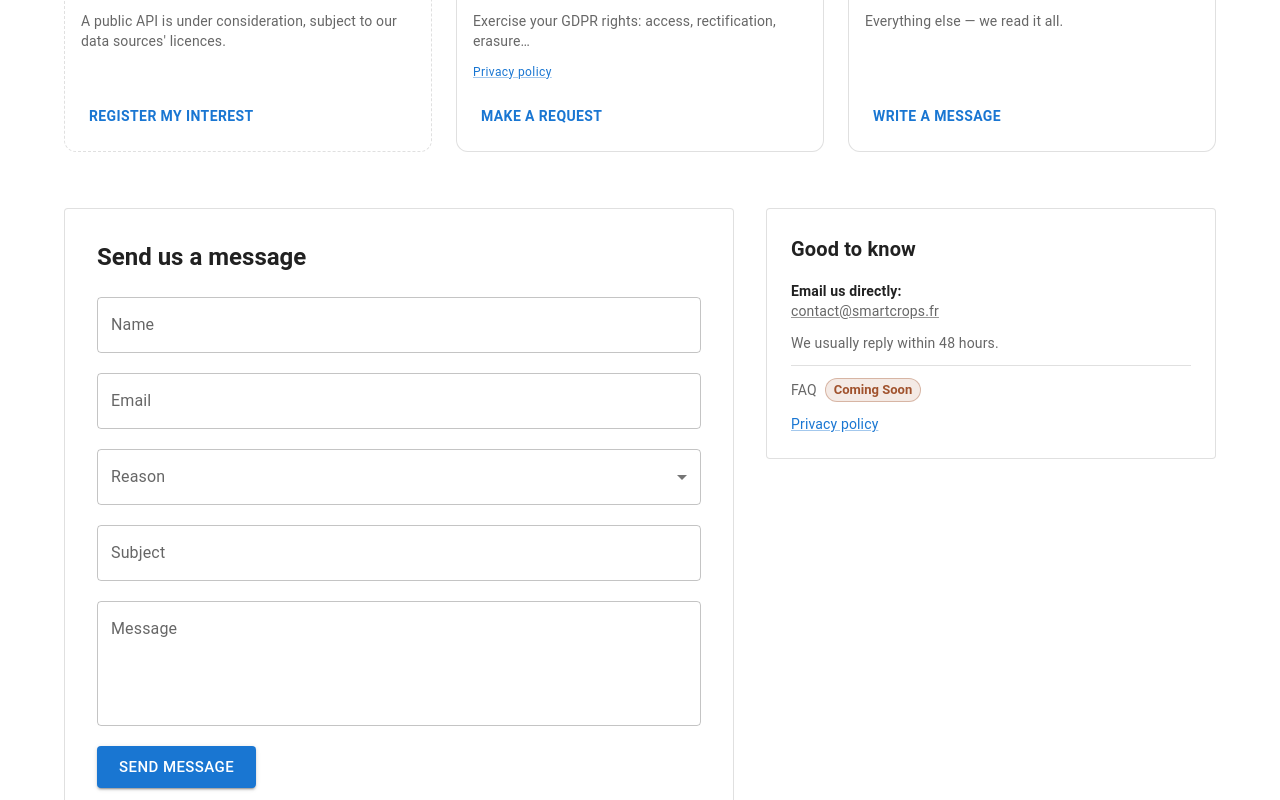
Scenario: Contact (SMA-36) › distinguishes a malformed email as "invalid" (E5)
The width and height of the screenshot is (1280, 800).
(page scrolled)
Type "not-an-email" into the field labelled "Email" at (399, 401), box [97,373,701,429]
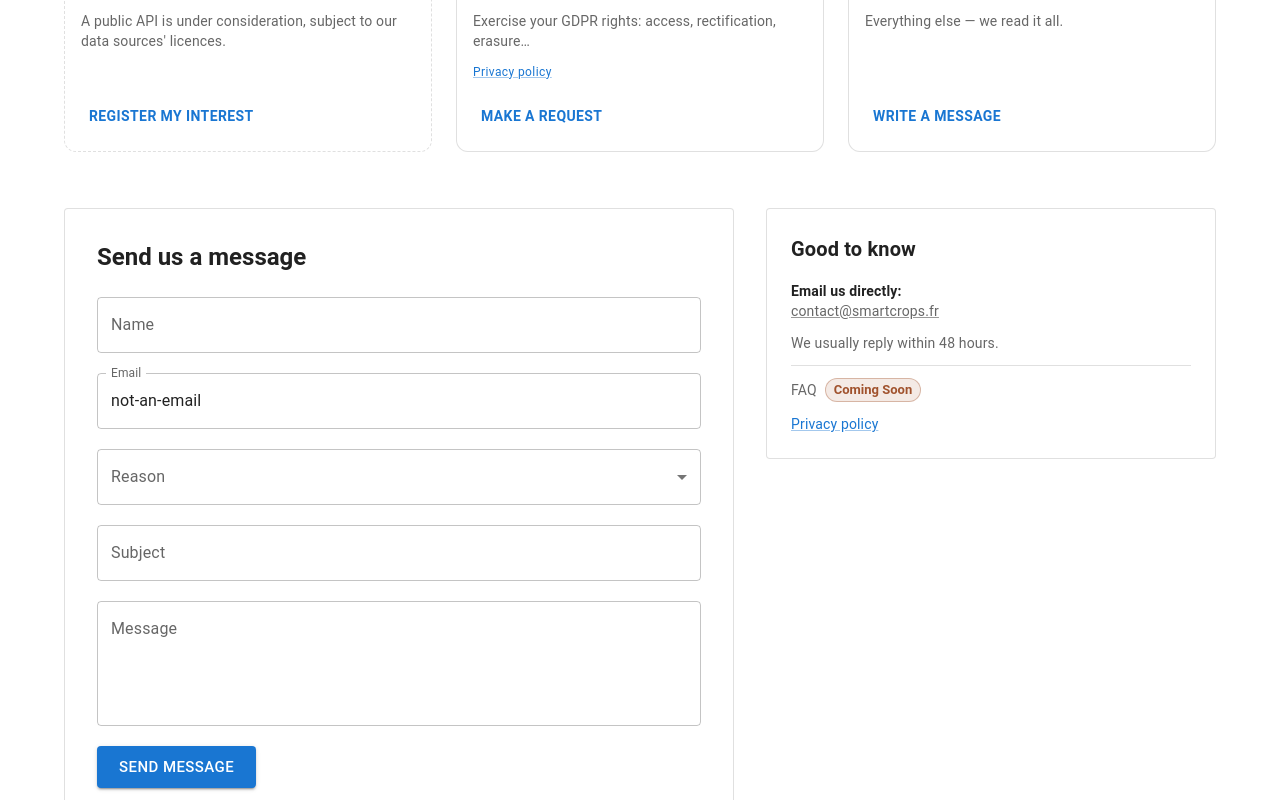
Click the button "Send message" at (177, 767), box [97,746,256,788]
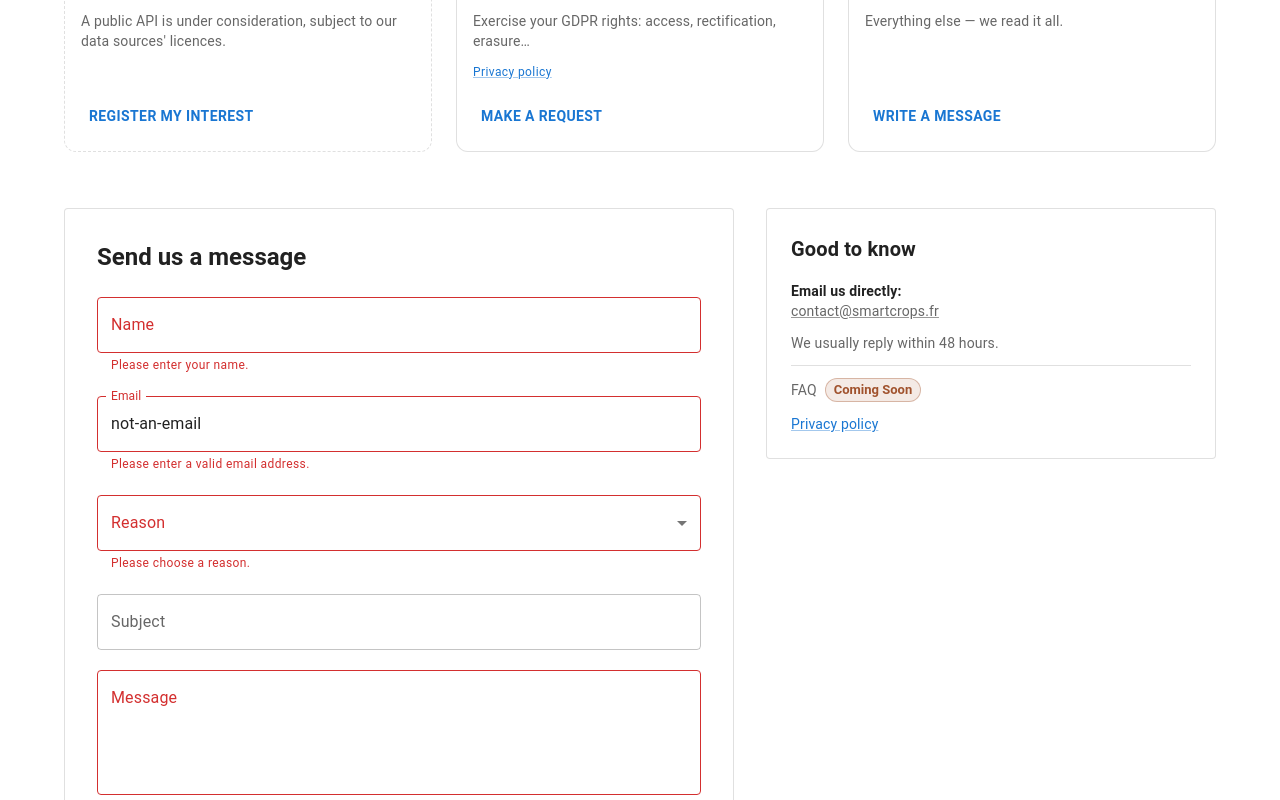
Check: the text "Please enter a valid email address." is shown, box [111,457,310,471]
